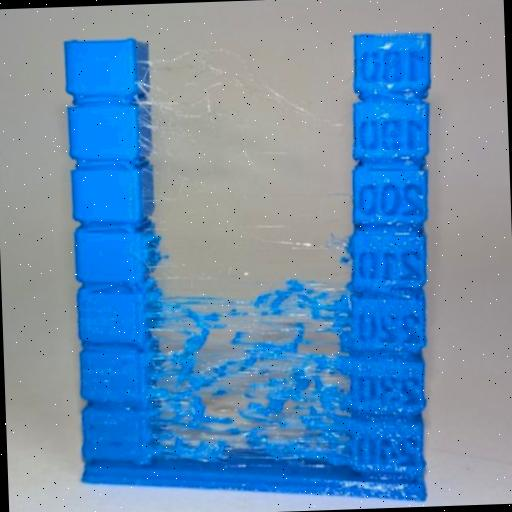stringing: (148, 216, 354, 470), (134, 26, 348, 176)
